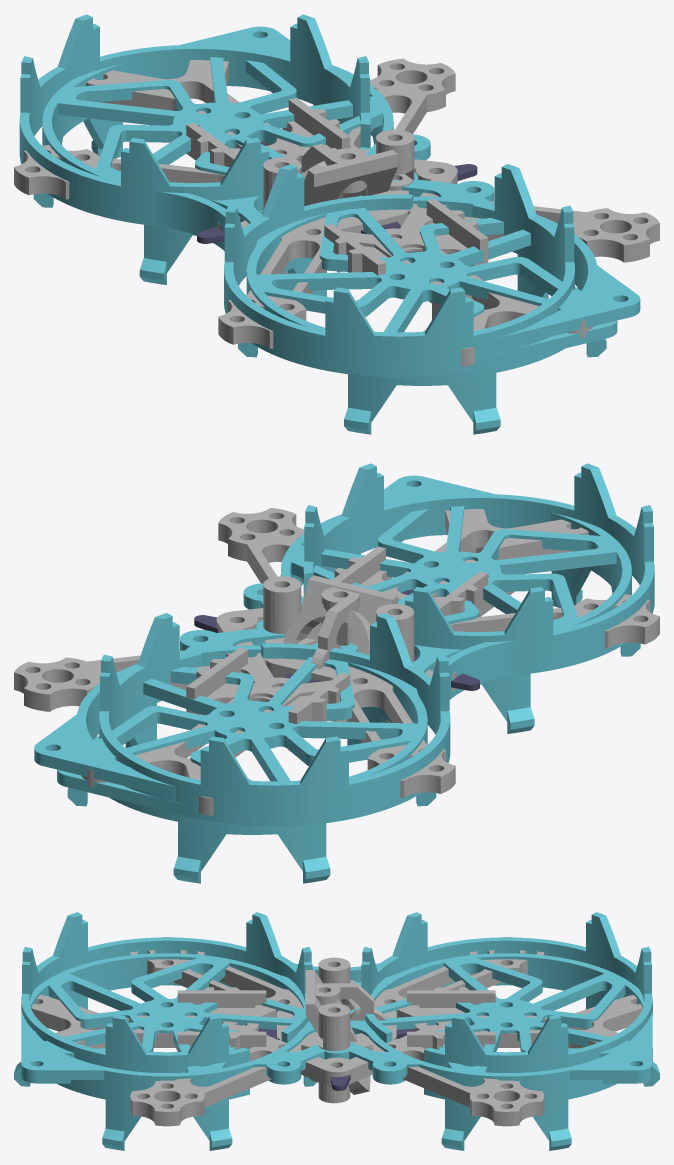
The model's file is bateleur.v0.2.5.squashed.glb.
3 views of the same model, one above another, from view 1: azimuth 30°, elevation 25°; view 2: azimuth 150°, elevation 25°; view 3: azimuth 270°, elevation 25° (orthographic). The views are drawn at different scales.
Visible parts, largest first — view 1: PropguardsTop, PropguardsBottom, Coretop, Batteryplate, Antennamount, Corebottom, CameraBracket, Prop; view 2: PropguardsTop, PropguardsBottom, Coretop, Antennamount, Batteryplate, CameraBracket, Corebottom, Prop; view 3: PropguardsTop, PropguardsBottom, Coretop, Batteryplate, Antennamount, Corebottom, CameraBracket, Prop.
Boxes of the visible parts, box(x1,y1,x2,y2) form: PropguardsTop: box(33, 26, 640, 434); PropguardsBottom: box(19, 14, 617, 377); Coretop: box(14, 58, 659, 348); Batteryplate: box(186, 98, 488, 275); Antennamount: box(263, 129, 414, 273); Corebottom: box(86, 61, 592, 366); CameraBracket: box(301, 143, 367, 199); Prop: box(197, 142, 477, 252); PropguardsTop: box(34, 475, 640, 883); PropguardsBottom: box(57, 463, 654, 826); Coretop: box(14, 508, 659, 815); Antennamount: box(263, 575, 414, 722); Batteryplate: box(186, 546, 488, 724); CameraBracket: box(311, 587, 359, 669); Corebottom: box(174, 509, 571, 758); Prop: box(194, 589, 479, 701); PropguardsTop: box(14, 953, 659, 1150); PropguardsBottom: box(21, 912, 652, 1084); Coretop: box(31, 937, 652, 1126); Batteryplate: box(177, 987, 495, 1083); Antennamount: box(305, 957, 369, 1103); Corebottom: box(31, 996, 637, 1086); CameraBracket: box(310, 983, 385, 1082); Prop: box(258, 1028, 415, 1090).
Bounding box in the file's own units: 78 × 25.35 × 122.
